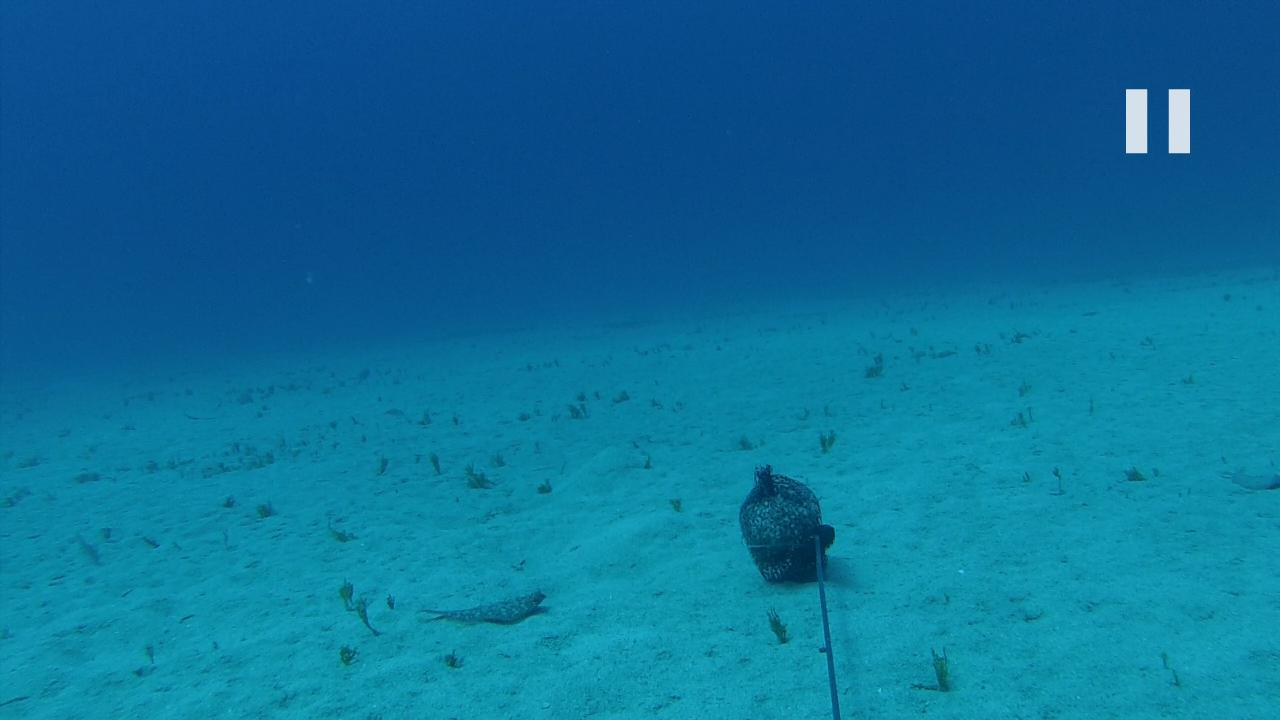bothus: (413, 588, 550, 629), (1221, 464, 1279, 493)
